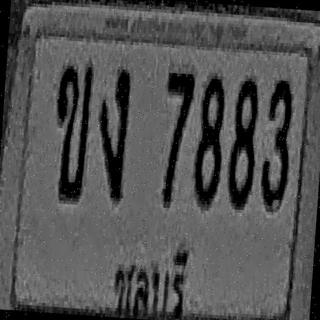A02: (50, 60, 93, 200)
A07: (94, 65, 131, 201)
N03: (259, 76, 294, 210)
N07: (158, 69, 195, 206)
N08: (192, 70, 227, 206), (226, 74, 260, 207)
P13: (107, 238, 188, 320)
